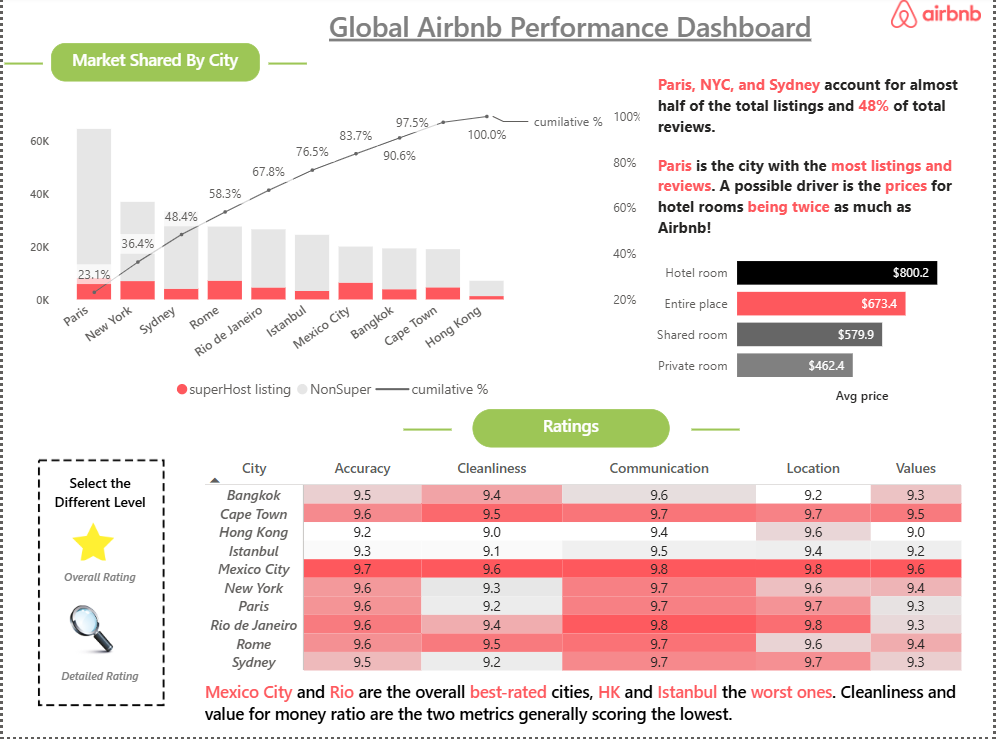

The page's visual inventory and layout, read from the dashboard file:
{"tool":"powerbi","page":{"name":"Ratings","canvas":[960,720],"ordinal":1},"visuals":[{"type":"textbox","box":[275.3,4.9,550.5,61.5],"z":0},{"type":"group","id":"g1","title":"Group 2","box":[61.5,592.6,48.6,48.6],"z":0,"group":"g4"},{"type":"image","box":[861.4,0,87.4,37.2],"z":1000},{"type":"textbox","box":[50.2,644.4,89.1,32.4],"z":1000,"group":"g4"},{"type":"textbox","box":[47,47,202.4,37.2],"z":2000},{"type":"lineStackedColumnComboChart","fields":{"Category":["Listings.city"],"Y":["Listings.superHost listing","Listings.NonSuper"],"Y2":["Listings.cumilative %"]},"box":[21,102,602.4,299.6],"z":3000},{"type":"barChart","fields":{"Category":["Listings.room_type"],"Y":["Listings.Avg price"]},"box":[623.4,233.2,336.8,168.4],"z":4000},{"type":"textbox","box":[629.9,71.2,306,178.1],"z":5000},{"type":"textbox","box":[455,401.6,191.1,37.2],"z":6000},{"type":"shape","box":[388.6,367.6,47,106.9],"z":7000},{"type":"shape","box":[668.7,367.6,47,106.9],"z":8000},{"type":"image","box":[1.6,421,187.8,299.6],"z":9000},{"type":"shape","box":[1.6,13,37.2,106.9],"z":10000},{"type":"shape","box":[257.5,13,37.2,106.9],"z":11000},{"type":"image","box":[62.8,508.9,50.2,43.7],"z":11000,"group":"g2"},{"type":"textbox","box":[40.5,458.2,106.9,47],"z":12000},{"type":"image","box":[61.5,592.6,48.6,48.6],"z":12000,"group":"g1"},{"type":"group","id":"g2","title":"Group 1","box":[62.8,508.9,50.2,43.7],"z":13000,"group":"g3"},{"type":"pivotTable","fields":{"Rows":["Listings.city"],"Values":["Listings.Accuracy","Listings.cleanliness","Listings.Communication","Listings.Location","Listings.Values"]},"box":[191.1,443.7,746.5,225.1],"z":14000},{"type":"textbox","box":[50.2,548.9,89.1,32.4],"z":14002,"group":"g3"},{"type":"textbox","box":[191.1,660.1,761,59.9],"z":15000},{"type":"group","id":"g3","title":"Group 3","box":[50.2,508.9,89.1,72.4],"z":16000},{"type":"group","id":"g4","title":"Group 4","box":[50.2,592.6,89.1,84.2],"z":17000}]}

Visuals, with their boxes in screenshot pixels (x1, y1, x2, y2), scaled from the page's 960x720 canvas onto the 997x739 screenshot:
textbox: [286,5,858,68]
"Group 2" group: [64,608,114,658]
image: [895,0,985,38]
textbox: [52,661,145,695]
textbox: [49,48,259,86]
lineStackedColumnComboChart - Listings.city x Listings.superHost listing: [22,105,647,412]
barChart - Listings.room_type x Listings.Avg price: [647,239,996,412]
textbox: [654,73,972,256]
textbox: [473,412,671,450]
shape: [404,377,452,487]
shape: [694,377,743,487]
image: [2,432,197,738]
shape: [2,13,40,123]
shape: [267,13,306,123]
image: [65,522,117,567]
textbox: [42,470,153,519]
image: [64,608,114,658]
"Group 1" group: [65,522,117,567]
pivotTable - Listings.city x Listings.Accuracy: [198,455,974,686]
textbox: [52,563,145,597]
textbox: [198,678,989,738]
"Group 3" group: [52,522,145,597]
"Group 4" group: [52,608,145,695]
